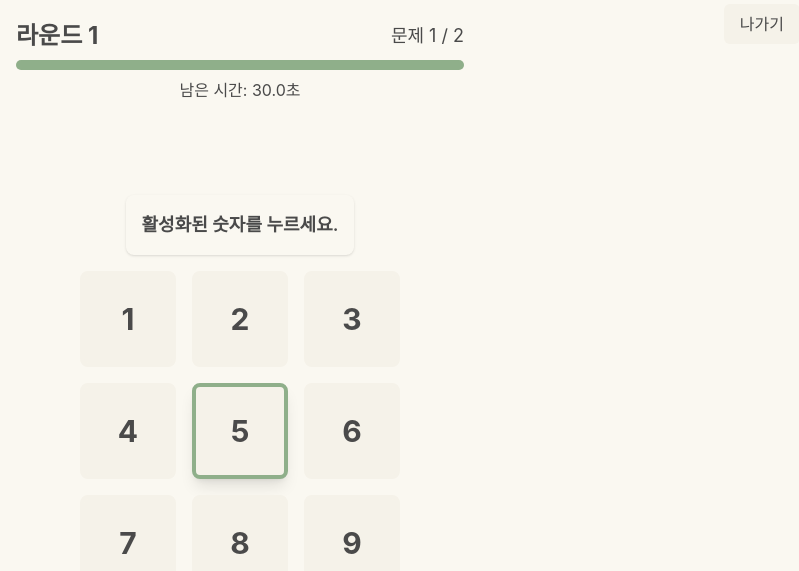
Test case: NumberPressingGame component › handles an incorrect answer in Round 1
# Click an incorrect button
Click the button "3" at (352, 319), box [304,271,400,367]
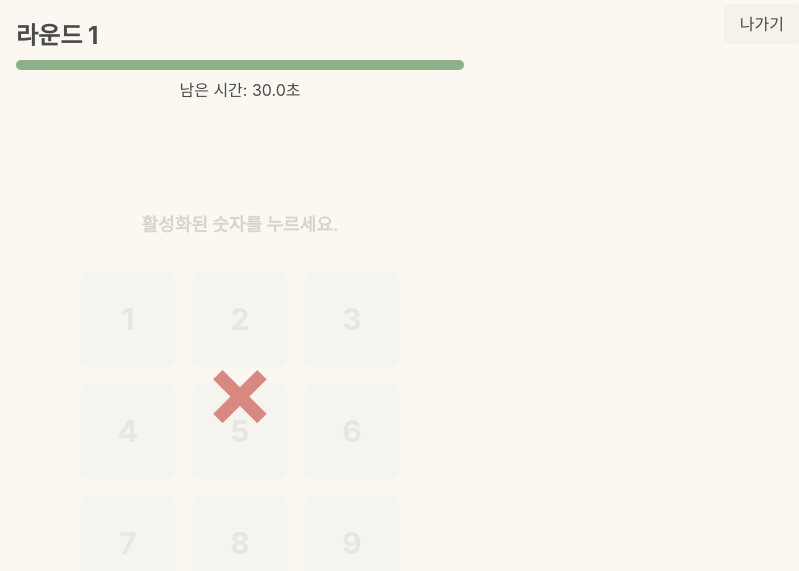
Now the text "✗" is shown, box [198,345,282,441]
